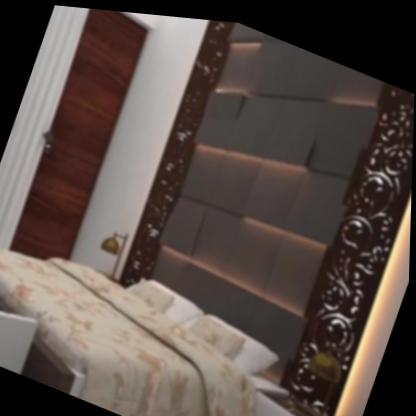Bed: (0, 209, 287, 416)
Lamp: (290, 327, 360, 416), (88, 218, 141, 294)
Nightstand: (226, 366, 364, 416)
